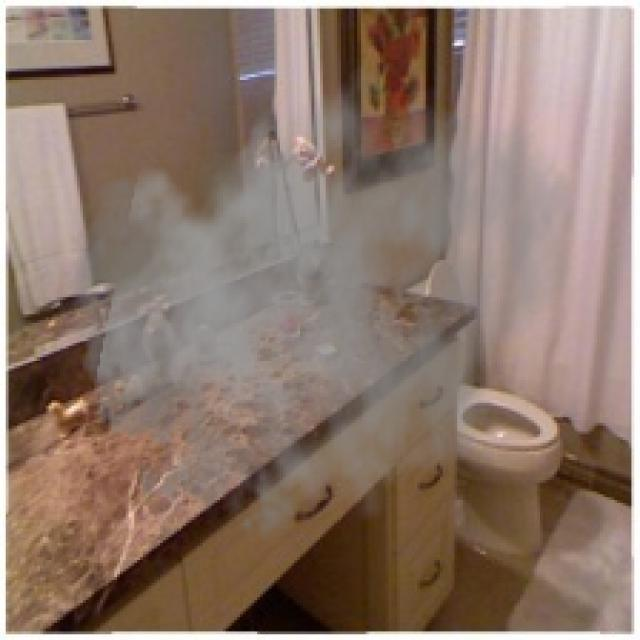Smoke: (57, 40, 577, 560)
